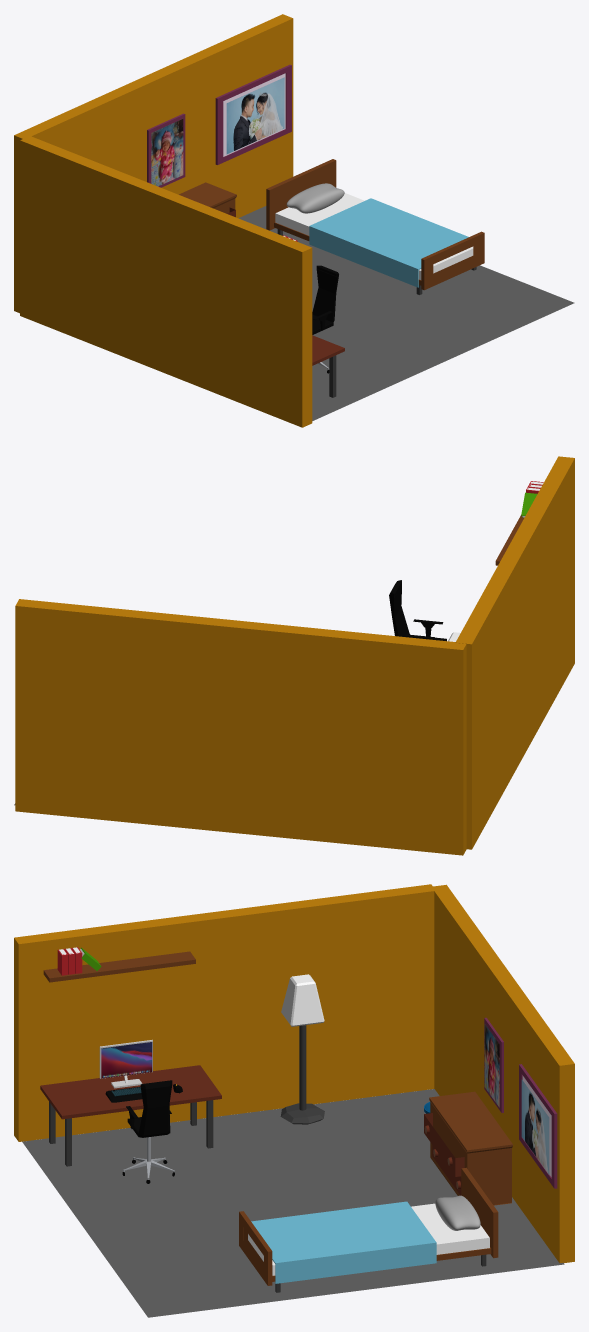
3 views of the same model, one above another, from view 1: azimuth 30°, elevation 25°; view 2: azimuth 150°, elevation 25°; view 3: azimuth 270°, elevation 25° (orthographic). The views are drawn at different scales.
Parts seen in each view (by area): view 1: wall left, wall behind, Plane, blanket, wedding, picture frame, mybaby, cover front, cover back, sofa, Cube.002, pillow (+4 smaller); view 2: wall behind, wall left, Cube.002; view 3: wall left, Plane, wall behind, blanket, Cube.005, table _Material_0, sofa, book shelf, Cube.002, Cube.001, wedding, apple desktop (+11 smaller).
Boxes of the visible parts, box(x1,y1,x2,y2) form: wall left: box(20, 136, 312, 427); wall behind: box(14, 14, 293, 313); Plane: box(238, 206, 574, 420); blanket: box(309, 198, 468, 287); wedding: box(226, 77, 284, 154); picture frame: box(215, 64, 291, 164); mybaby: box(151, 119, 183, 186); cover front: box(266, 159, 336, 230); cover back: box(421, 231, 484, 290); sofa: box(275, 193, 473, 279); Cube.002: box(312, 265, 338, 334); pillow: box(286, 183, 344, 213); wall behind: box(15, 599, 466, 855); wall left: box(455, 456, 574, 849); Cube.002: box(389, 580, 446, 641); wall left: box(14, 884, 435, 1141); Plane: box(22, 1089, 564, 1317); wall behind: box(433, 884, 574, 1263); blanket: box(251, 1201, 436, 1283); Cube.005: box(429, 1091, 512, 1205); table _Material_0: box(40, 1065, 221, 1119); sofa: box(248, 1203, 489, 1275); book shelf: box(43, 951, 195, 982); Cube.002: box(127, 1080, 172, 1137); Cube.001: box(281, 974, 324, 1026); wedding: box(521, 1079, 549, 1174); apple desktop: box(101, 1042, 152, 1078).
Bounding box in the file's own units: 4.83 × 1.92 × 4.85.
22 materials, 3 textured.
